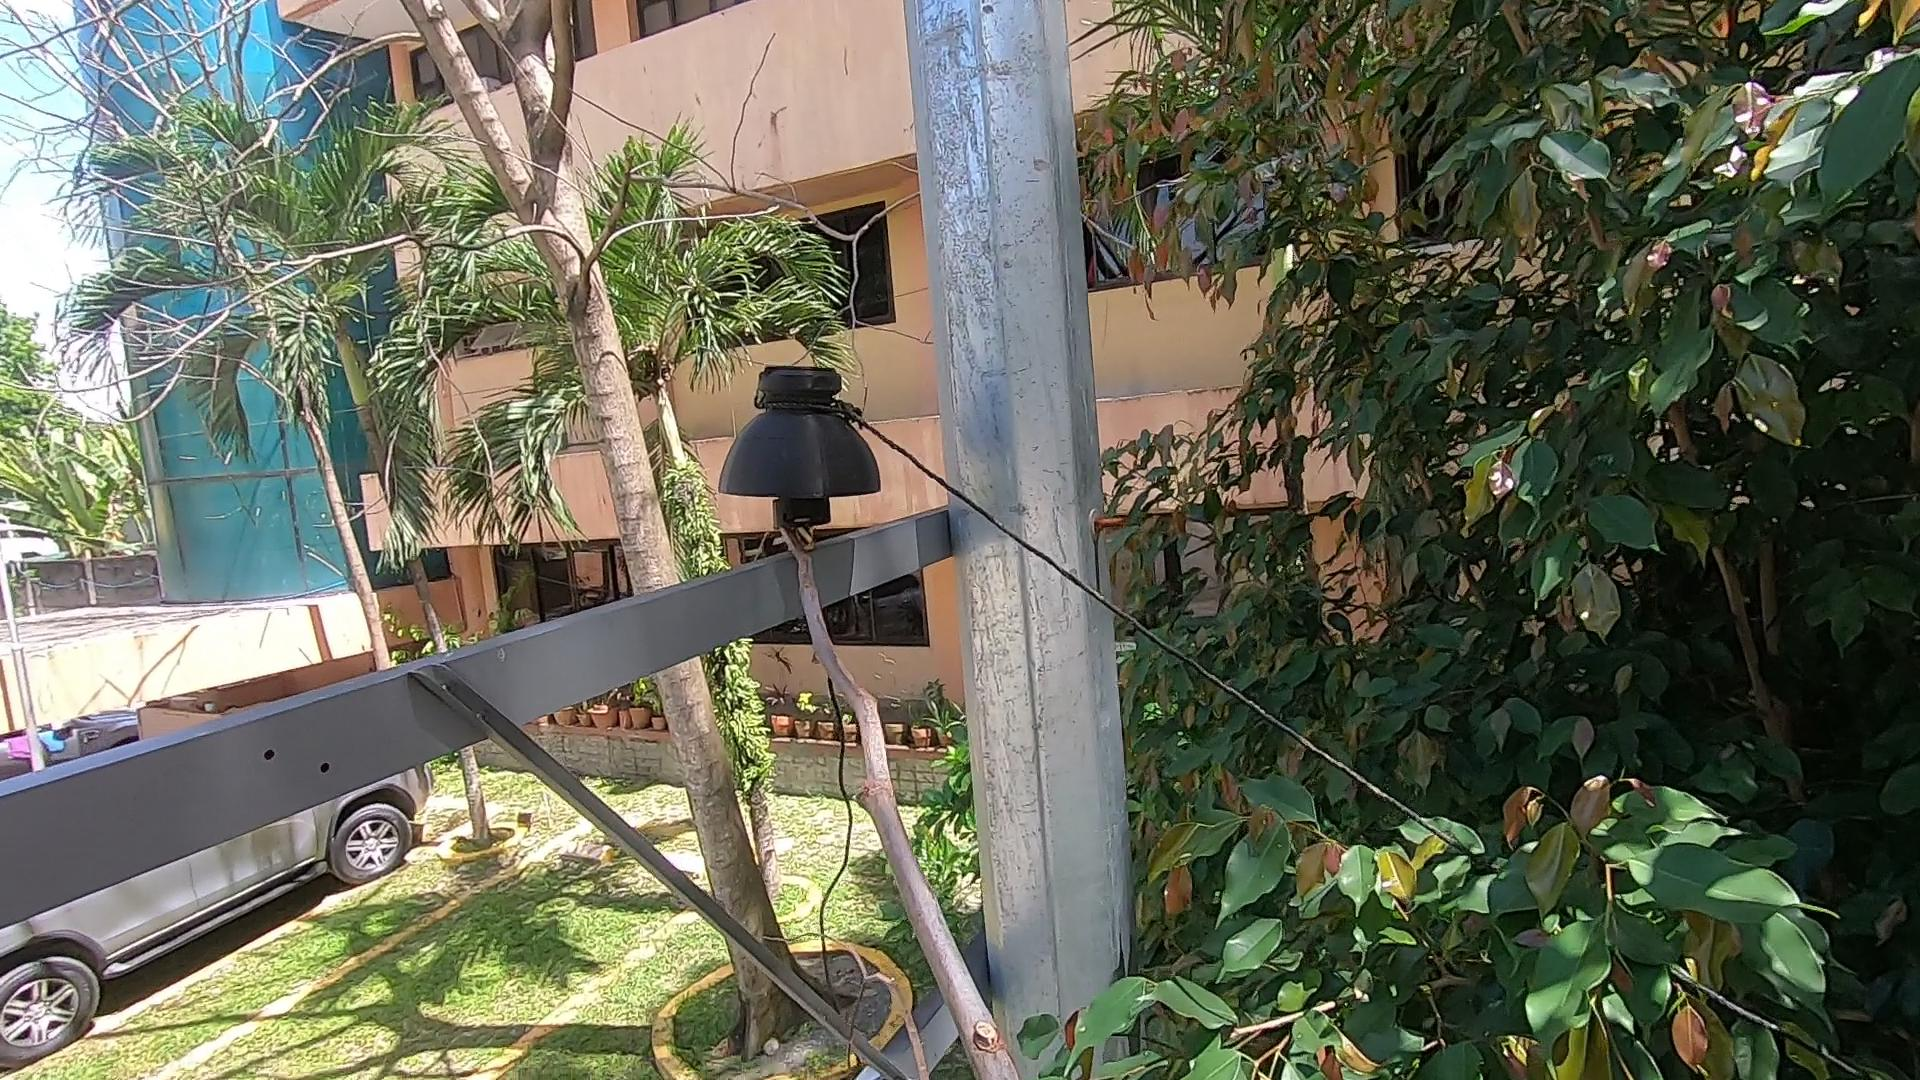branch with leaves: (1004, 959, 1291, 1080)
tree branch: (741, 459, 1038, 1080)
